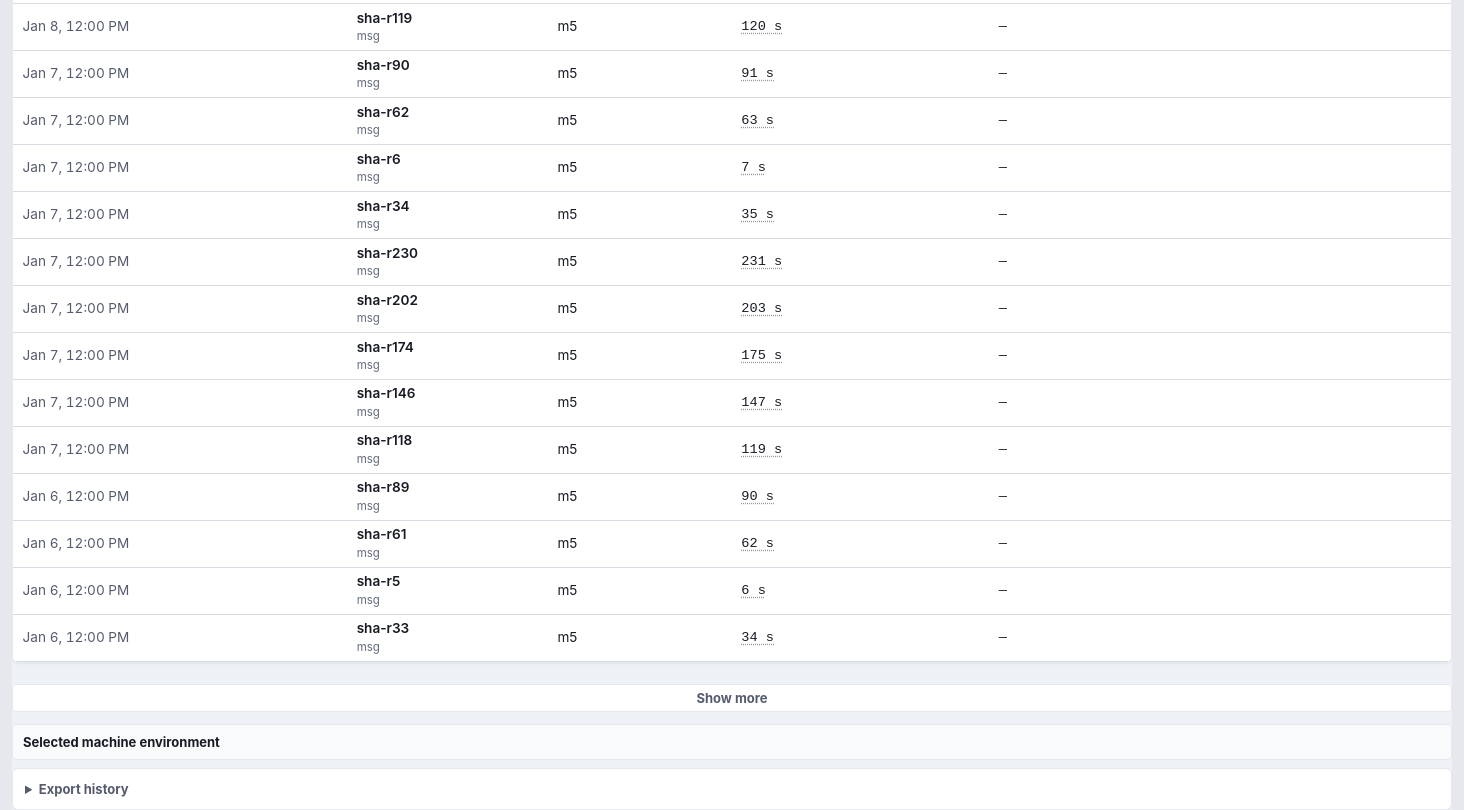
Test: TrendPage › renders a capped history table with progressive reveal
(page scrolled)
Expected: the text "sha-r0" is not shown
Step 1. Click the button "Show more" → (732, 698), box top-left (12, 684), bottom-right (1452, 712)
(page scrolled)
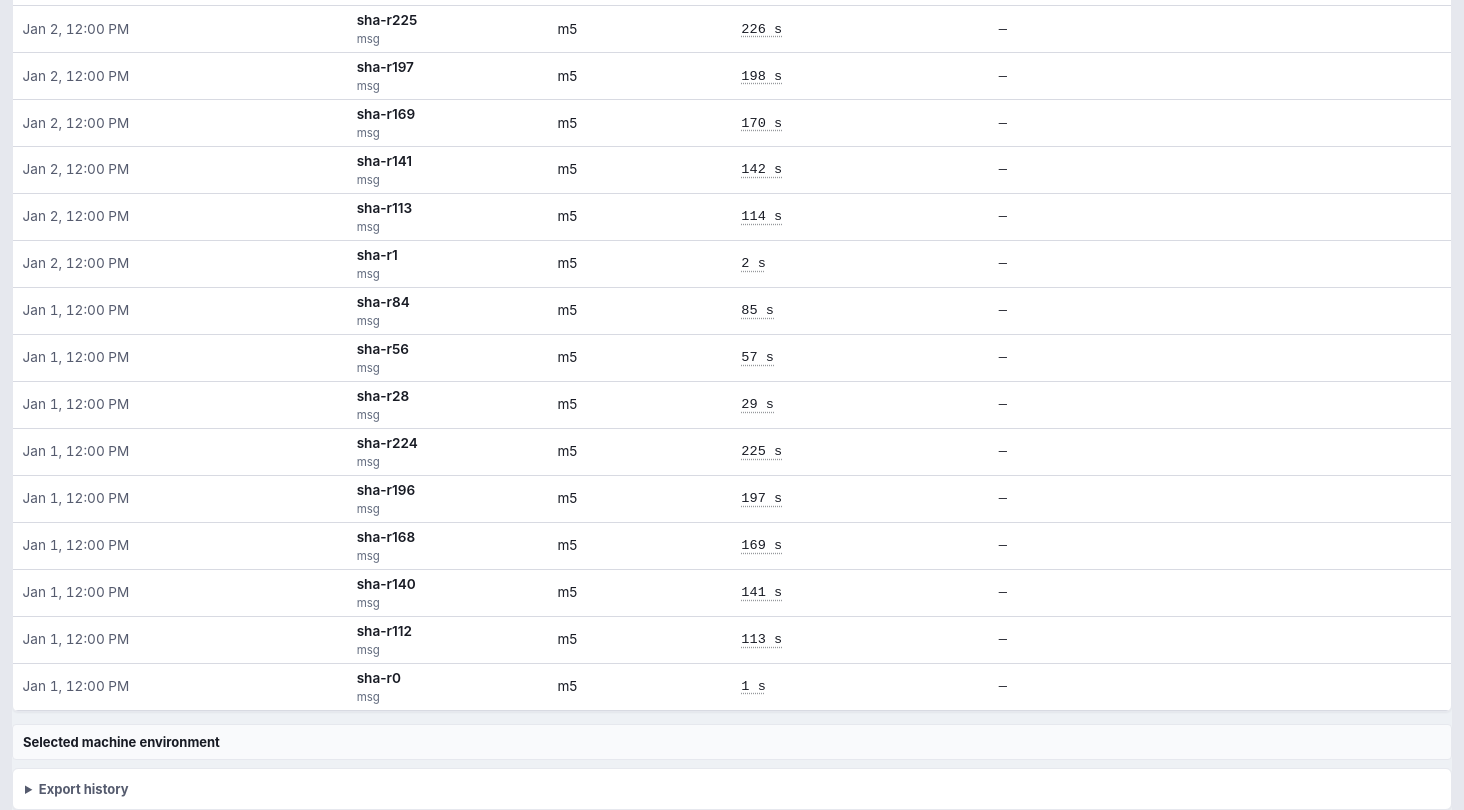
Now the text "sha-r0" is shown, box top-left (357, 670), bottom-right (401, 686)
